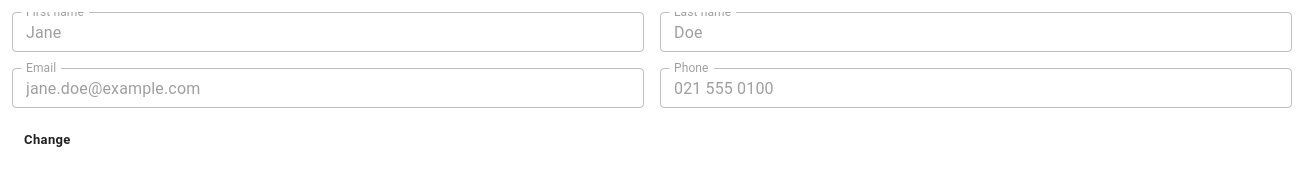
Test case: PersonPicker › "Change" on a selected person clears back to create mode with blank fields, not search
Click the button "Change" at coordinates (47, 140), box top-left (12, 124), bottom-right (83, 156)
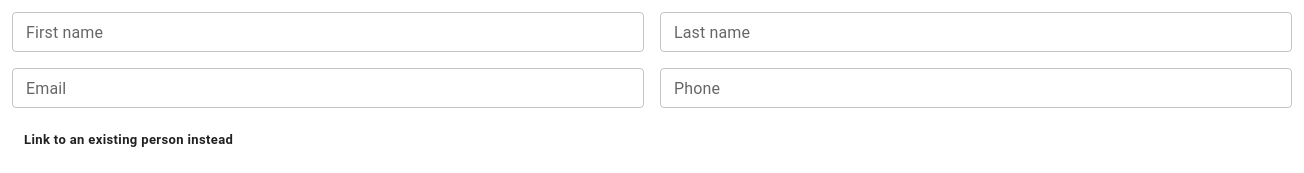
expect the field labelled "First name" is empty: met, box top-left (12, 12), bottom-right (644, 52)
expect the field labelled "First name" is enabled: met, box top-left (12, 12), bottom-right (644, 52)
